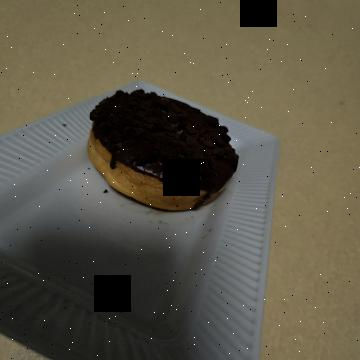doughnut: (72, 116, 227, 290)
